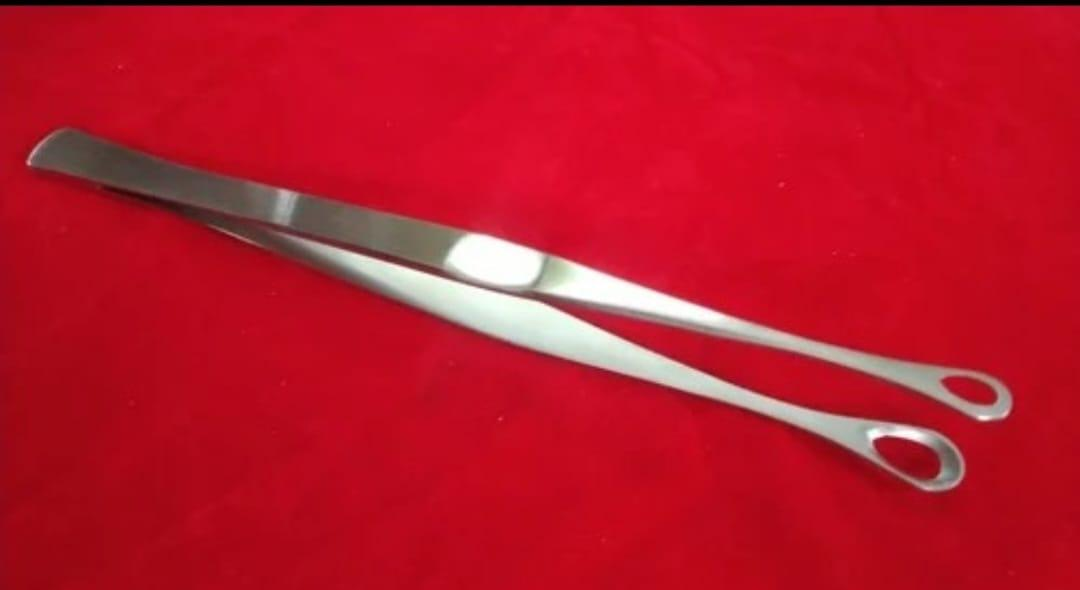Eye Intestinal Forceps: (8, 106, 1021, 517)
